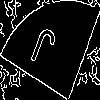J: (25, 24, 58, 78)
